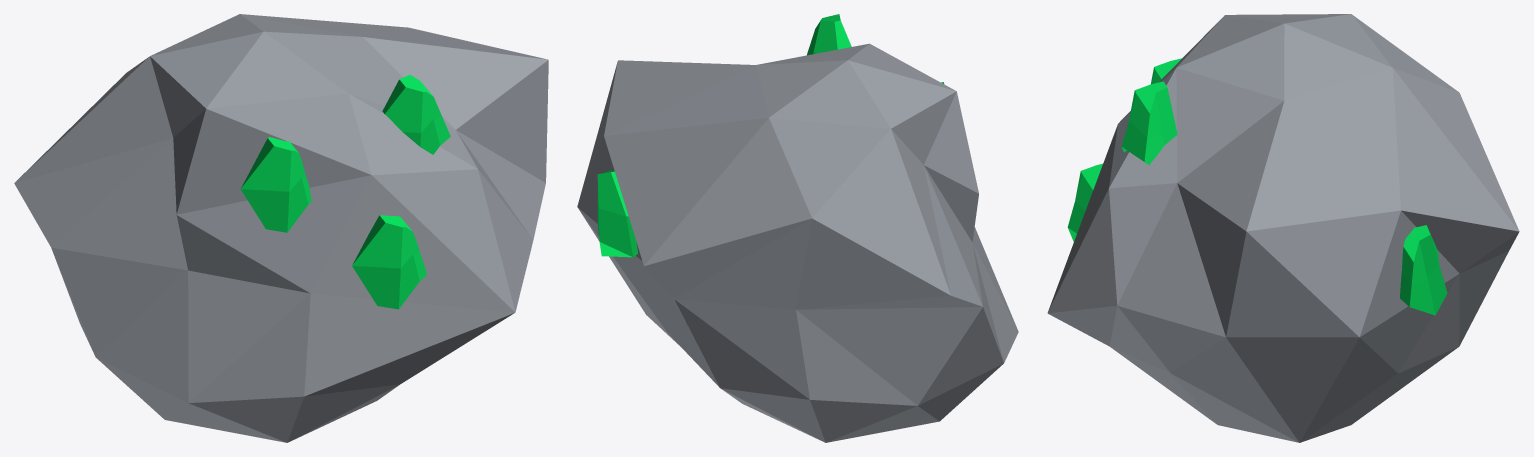
Rendered from krysztaly.fbx.
The picture shows the model from 3 angles, left to right: view 1: azimuth 30°, elevation 25°; view 2: azimuth 150°, elevation 25°; view 3: azimuth 270°, elevation 25°; orthographic projection. The views are drawn at different scales.
Parts seen in each view (by area): view 1: kamien, Zelazo2, Zelazo1, Zelazo; view 2: kamien, Zelazo3, Zelazo; view 3: kamien, Zelazo, Zelazo3, Zelazo2.
Part boxes in pixels (bbox=[...]): kamien: bbox=[14, 14, 548, 442]; Zelazo2: bbox=[352, 215, 426, 309]; Zelazo1: bbox=[240, 137, 311, 232]; Zelazo: bbox=[382, 74, 450, 154]; kamien: bbox=[577, 43, 1018, 442]; Zelazo3: bbox=[597, 170, 638, 257]; Zelazo: bbox=[807, 14, 851, 55]; kamien: bbox=[1047, 14, 1519, 442]; Zelazo: bbox=[1121, 81, 1177, 164]; Zelazo3: bbox=[1400, 225, 1447, 315]; Zelazo2: bbox=[1067, 163, 1102, 241].
Size of the model in its own units: 422 by 355 by 388.
